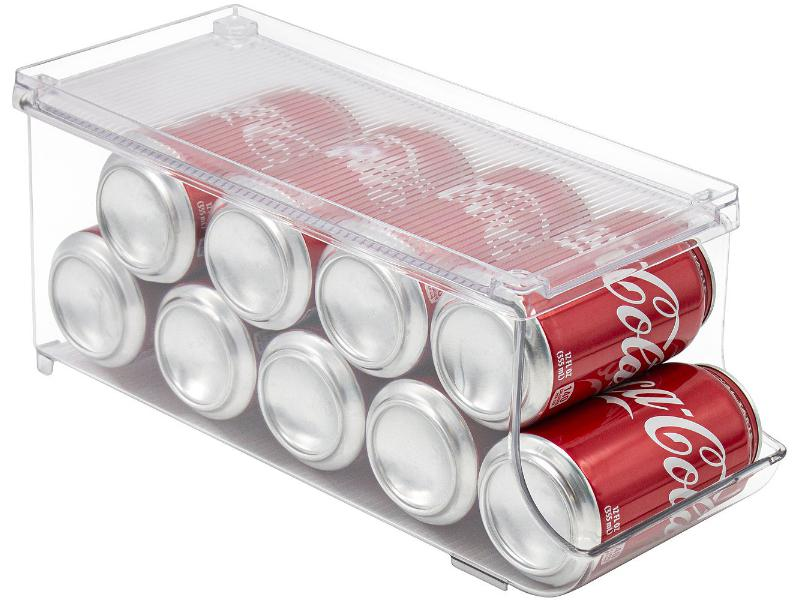can: (469, 354, 773, 564), (431, 205, 720, 421), (310, 218, 440, 383), (201, 168, 319, 334), (367, 372, 485, 534), (90, 126, 210, 285), (47, 226, 153, 394), (255, 329, 370, 476), (153, 282, 263, 435)
